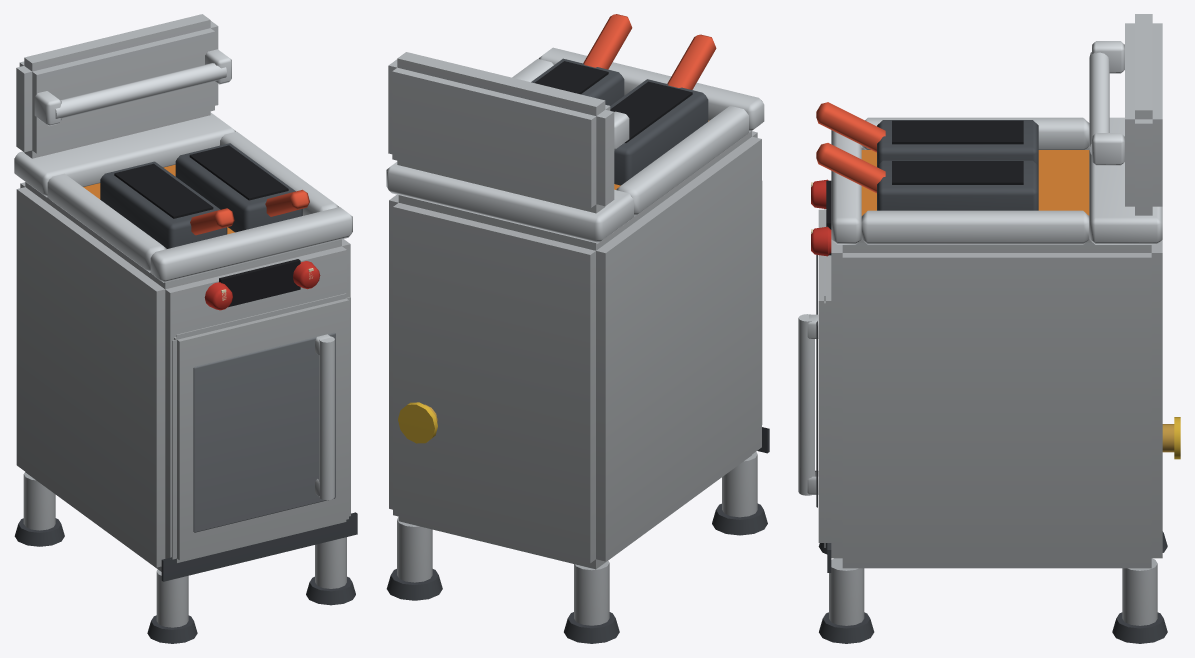
Rendered from SM_Fryer_Single_05.glb.
3 views of the same model, side by side, from view 1: azimuth 30°, elevation 25°; view 2: azimuth 150°, elevation 25°; view 3: azimuth 270°, elevation 25° (orthographic). The views are drawn at different scales.
Visible parts, largest first — view 1: SM_Fryer_Single_05; view 2: SM_Fryer_Single_05; view 3: SM_Fryer_Single_05.
Part boxes in pixels (<box>): SM_Fryer_Single_05: <box>14,14,357,643</box>; SM_Fryer_Single_05: <box>386,14,769,643</box>; SM_Fryer_Single_05: <box>798,14,1180,643</box>.
Bounding box in the file's own units: 0.51 × 1.15 × 0.755.
1 material, 1 textured.
